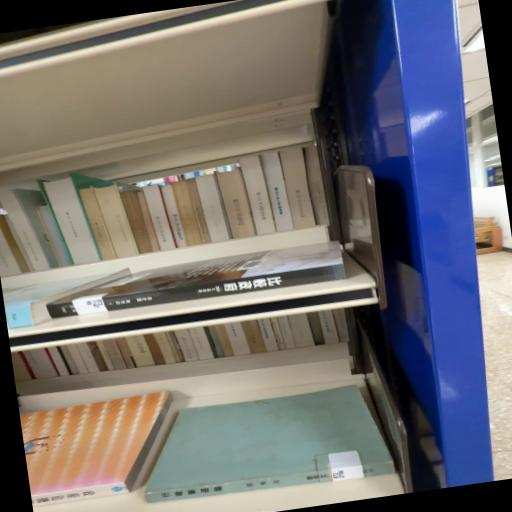flat: (146, 386, 396, 504), (48, 242, 346, 319)
